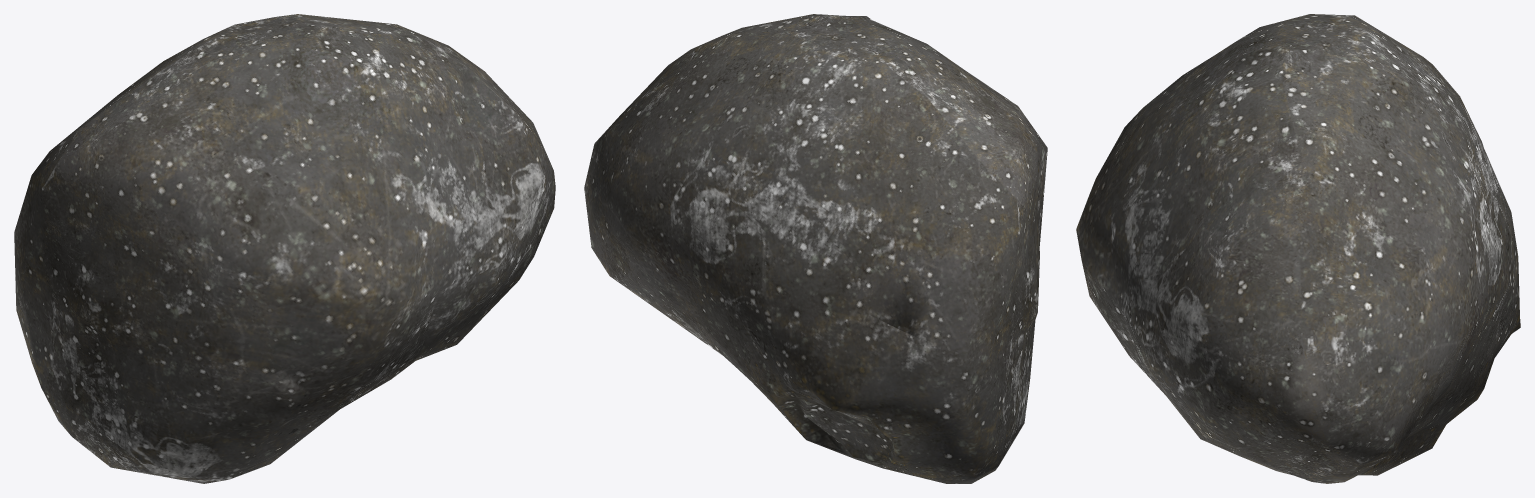
Rendered from Moonstone.glb.
3 views of the same model, side by side, from view 1: azimuth 30°, elevation 25°; view 2: azimuth 150°, elevation 25°; view 3: azimuth 270°, elevation 25° (orthographic). The views are drawn at different scales.
Visible parts, largest first — view 1: Daphne_LP.001_1_0.006; view 2: Daphne_LP.001_1_0.006; view 3: Daphne_LP.001_1_0.006.
Boxes of the visible parts, x1,y1,x2,y2 form: Daphne_LP.001_1_0.006: (14, 14, 555, 483); Daphne_LP.001_1_0.006: (584, 14, 1047, 483); Daphne_LP.001_1_0.006: (1076, 14, 1520, 483).
Size of what is drawn, in the model's own units: 1.36 by 1.17 by 1.01.
1 material, 1 textured.
